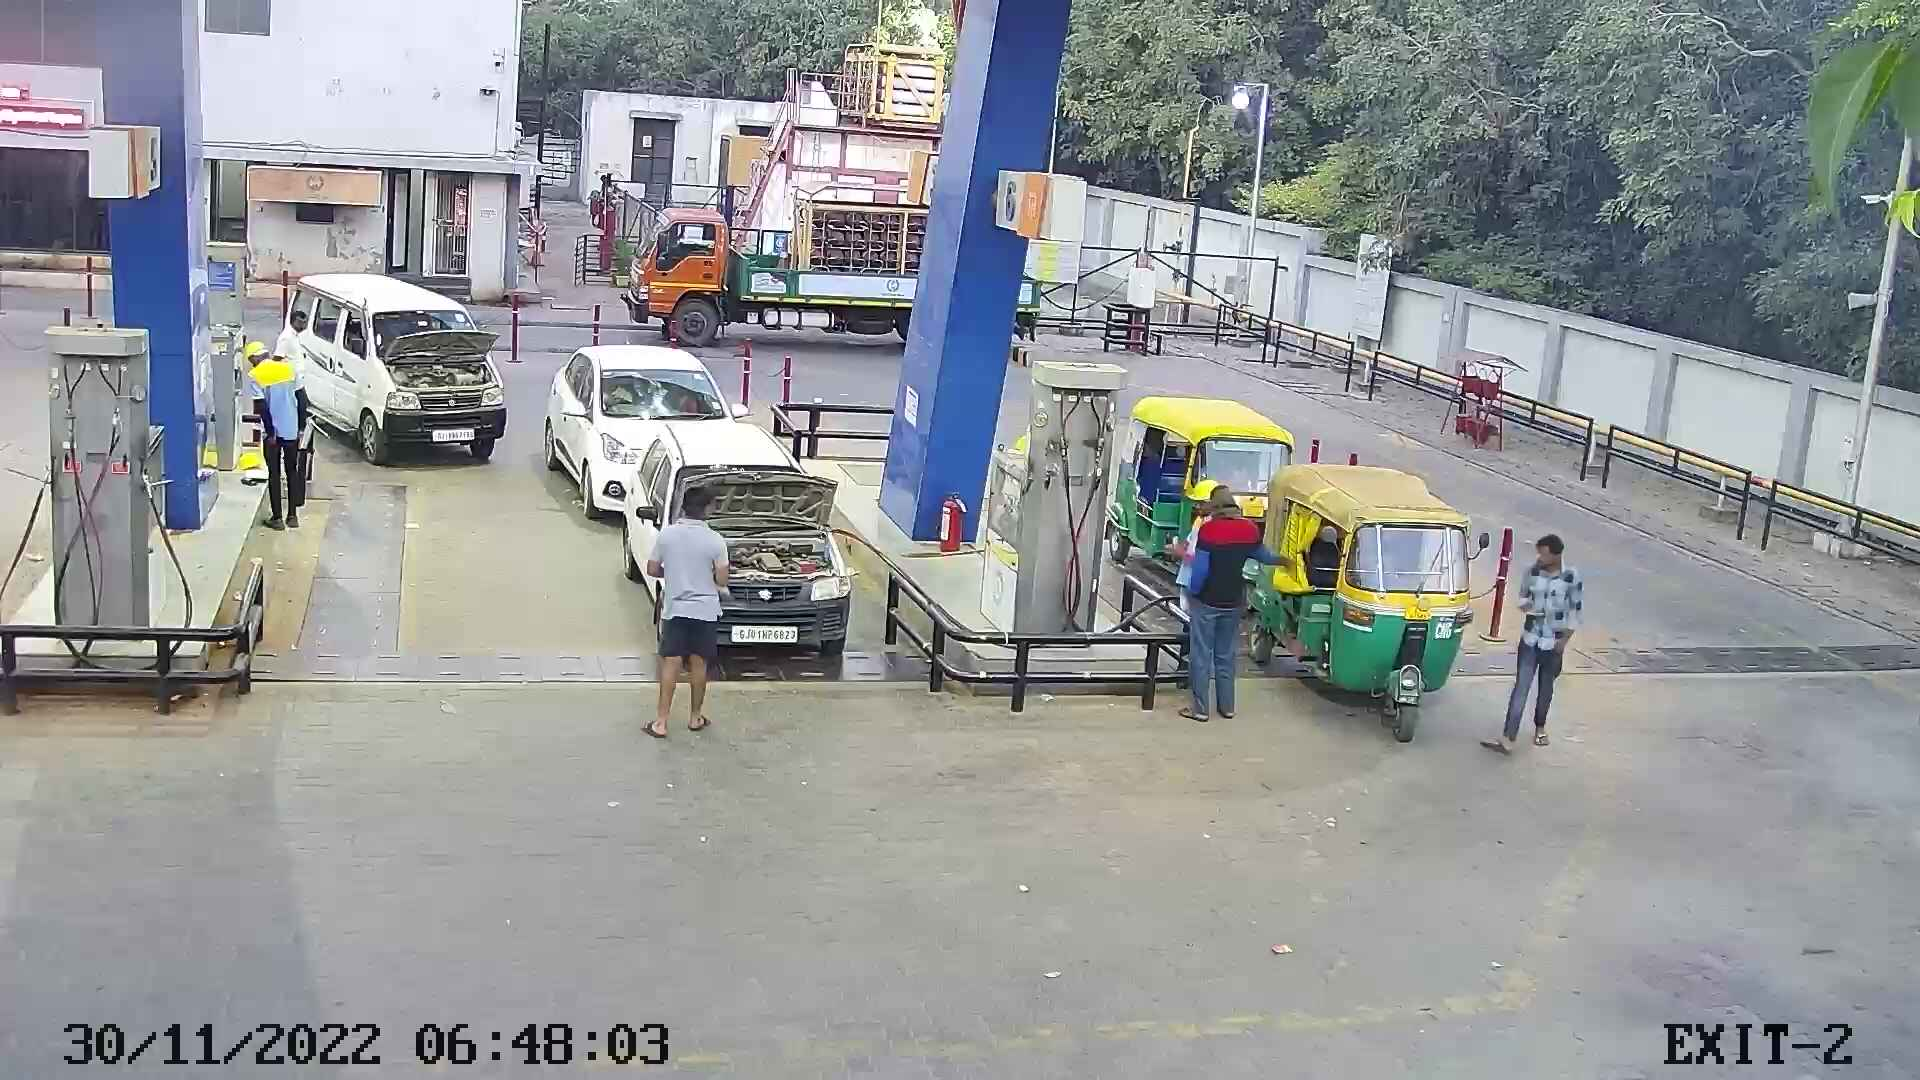Auto: (1234, 455, 1499, 749), (1095, 386, 1304, 624)
Car: (603, 410, 860, 667), (257, 264, 513, 469), (531, 334, 753, 524)
HMV: (608, 173, 938, 351)
Others: (229, 335, 311, 531), (1158, 477, 1228, 698)
